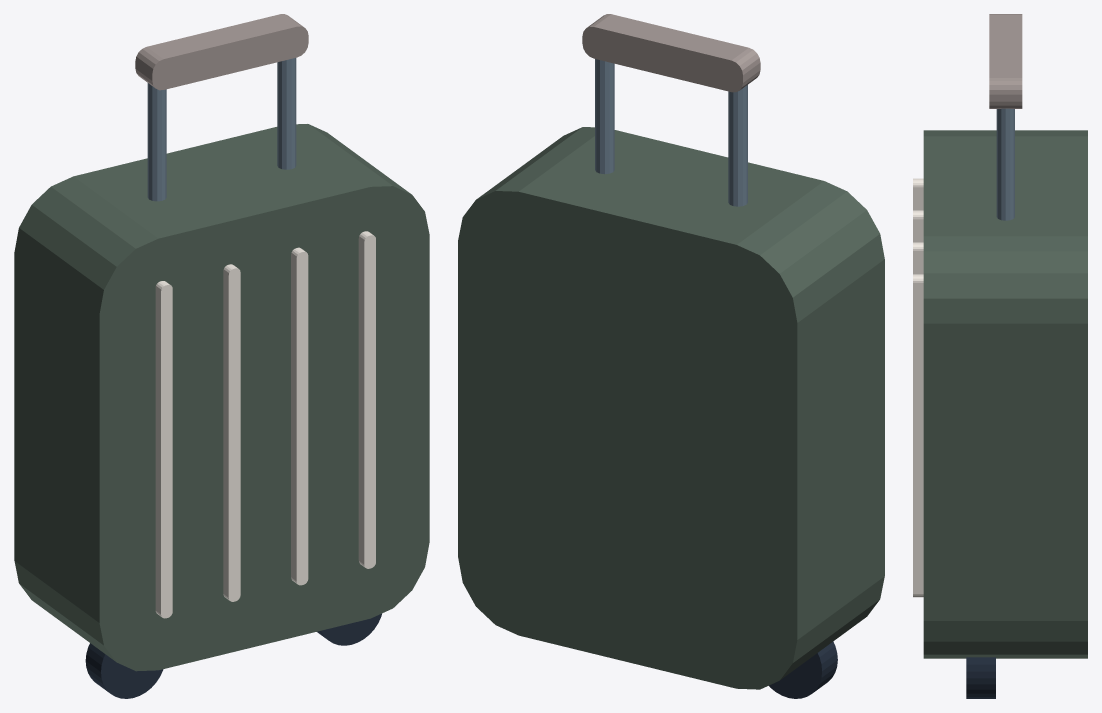
The model's file is suitcase.glb.
3 views of the same model, side by side, from view 1: azimuth 30°, elevation 25°; view 2: azimuth 150°, elevation 25°; view 3: azimuth 270°, elevation 25° (orthographic). The views are drawn at different scales.
Visible parts, largest first — view 1: hard shell, handle grip, rib 1, rib 0, rib 2, rib 3, telescopic -0.22, telescopic 0.22, caster -0.37, caster 0.37; view 2: hard shell, handle grip, telescopic -0.22, telescopic 0.22, caster -0.37; view 3: hard shell, rib 3, handle grip, telescopic 0.22, caster 0.37, rib 0, rib 1, rib 2.
Boxes of the visible parts, x1,y1,x2,y2 form: hard shell: (14,124,429,671); handle grip: (135,14,308,90); rib 1: (223,264,240,601); rib 0: (155,281,172,618); rib 2: (291,247,308,585); rib 3: (358,231,375,568); telescopic -0.22: (147,83,166,201); telescopic 0.22: (277,58,296,169); caster -0.37: (85,643,163,698); caster 0.37: (317,613,381,645); hard shell: (458,127,884,689); handle grip: (582,14,760,92); telescopic -0.22: (728,85,747,206); telescopic 0.22: (595,59,614,174); caster -0.37: (769,641,837,698); hard shell: (923,130,1087,658); rib 3: (913,274,923,597); handle grip: (989,14,1022,108); telescopic 0.22: (996,108,1014,220); caster 0.37: (966,657,995,698); rib 0: (913,178,923,210); rib 1: (913,210,923,242); rib 2: (913,242,923,274).
Bounding box in the file's own units: 1.12 × 2.01 × 0.5325.
